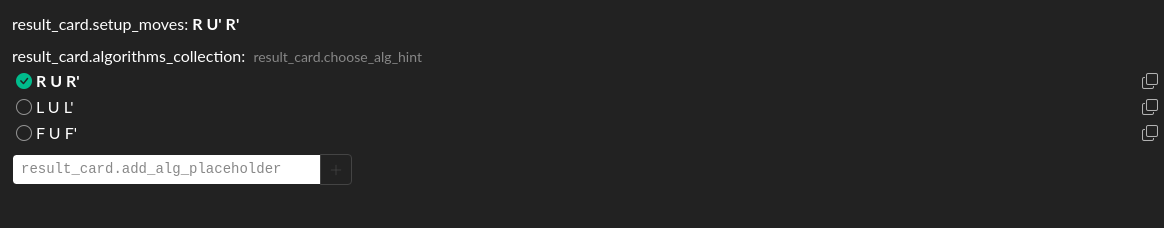
Test: adding your own alg › accepts a genuinely new alg and clears the input
The image size is (1164, 228).
In the field with placeholder "result_card.add_alg_placeholder": (166, 170) [12,154,321,185], type "R U2 R'"
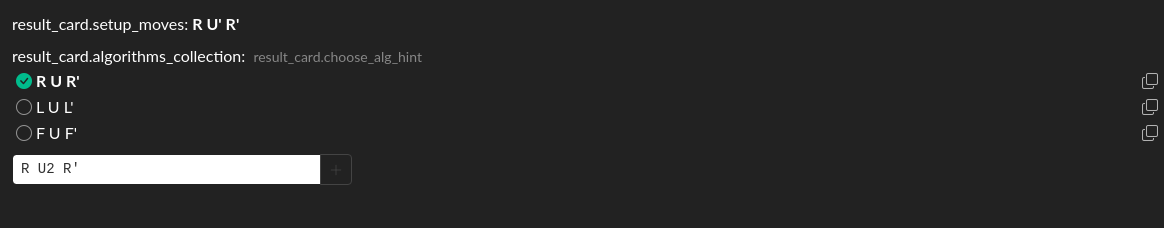
Press Enter in the field, box [12,154,321,185]
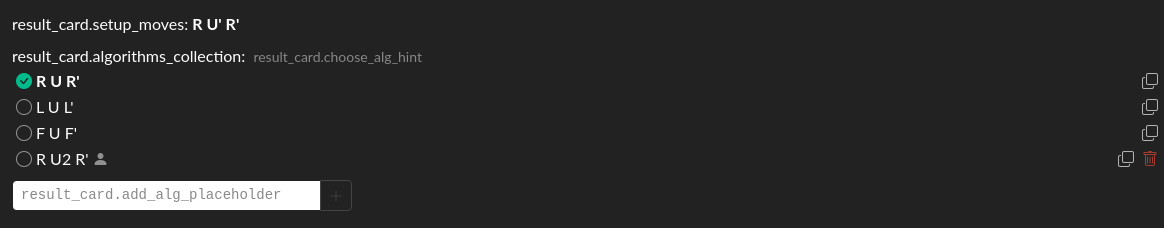
Check: the text "R U2 R'" is shown, box [36,147,89,171]
Check: the field with placeholder "result_card.add_alg_placeholder" is empty, box [12,180,321,211]
